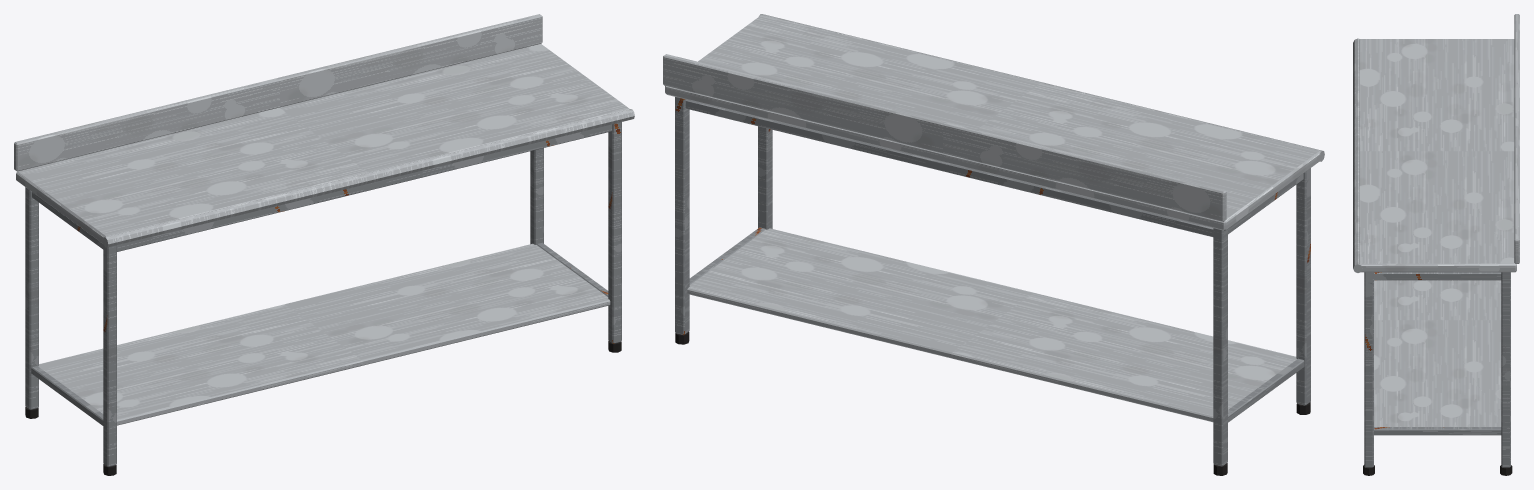
The model's file is kitchen_bench.glb.
3 renders of one model, left to right at view 1: azimuth 30°, elevation 25°; view 2: azimuth 150°, elevation 25°; view 3: azimuth 270°, elevation 25°, orthographic. The views are drawn at different scales.
Visible parts, largest first — view 1: p; view 2: p; view 3: p.
Part boxes in pixels (x1,y1,x2,y2): p: (14, 14, 634, 475); p: (663, 14, 1324, 475); p: (1353, 14, 1519, 475).
Size of the model in its own units: 1.95 by 0.96 by 0.608.
3 materials, 3 textured.
